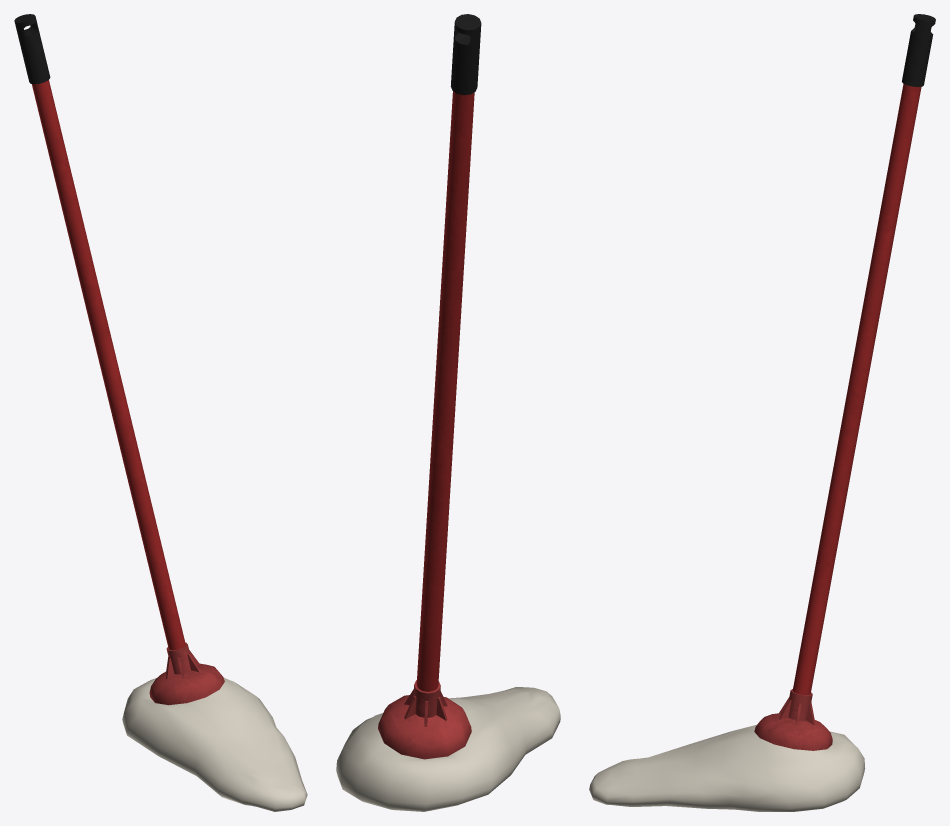
Rendered from mop.FBX.
3 renders of one model, left to right at view 1: azimuth 30°, elevation 25°; view 2: azimuth 150°, elevation 25°; view 3: azimuth 270°, elevation 25°, orthographic. The views are drawn at different scales.
Visible parts, largest first — view 1: mop; view 2: mop; view 3: mop.
Part boxes in pixels (box(x1,y1,x2,y2)): mop: box(14, 14, 307, 811); mop: box(336, 14, 560, 811); mop: box(589, 14, 935, 811).
Bounding box in the file's own units: 34.55 × 132 × 57.07.
Materials: 1 (1 with a texture image).
